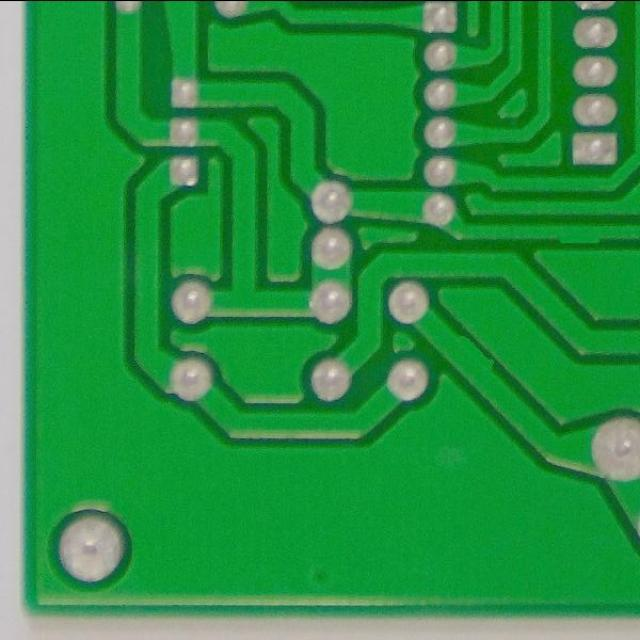Spur: (435, 326, 506, 390), (547, 218, 609, 250)
